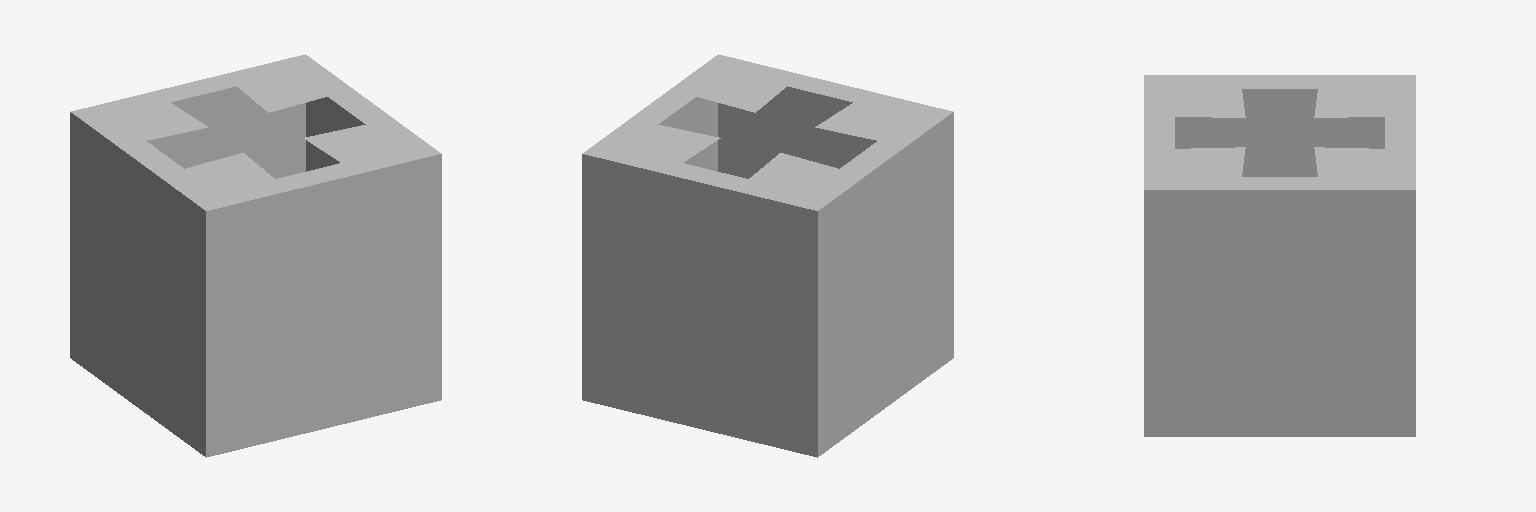
Rendered from Cross_cube_bottle_base_preprocessed.obj.
The picture shows the model from 3 angles: view 1: azimuth 30°, elevation 25°; view 2: azimuth 150°, elevation 25°; view 3: azimuth 270°, elevation 25°; orthographic projection.
Size of the model in its own units: 0.08 by 0.08 by 0.08.